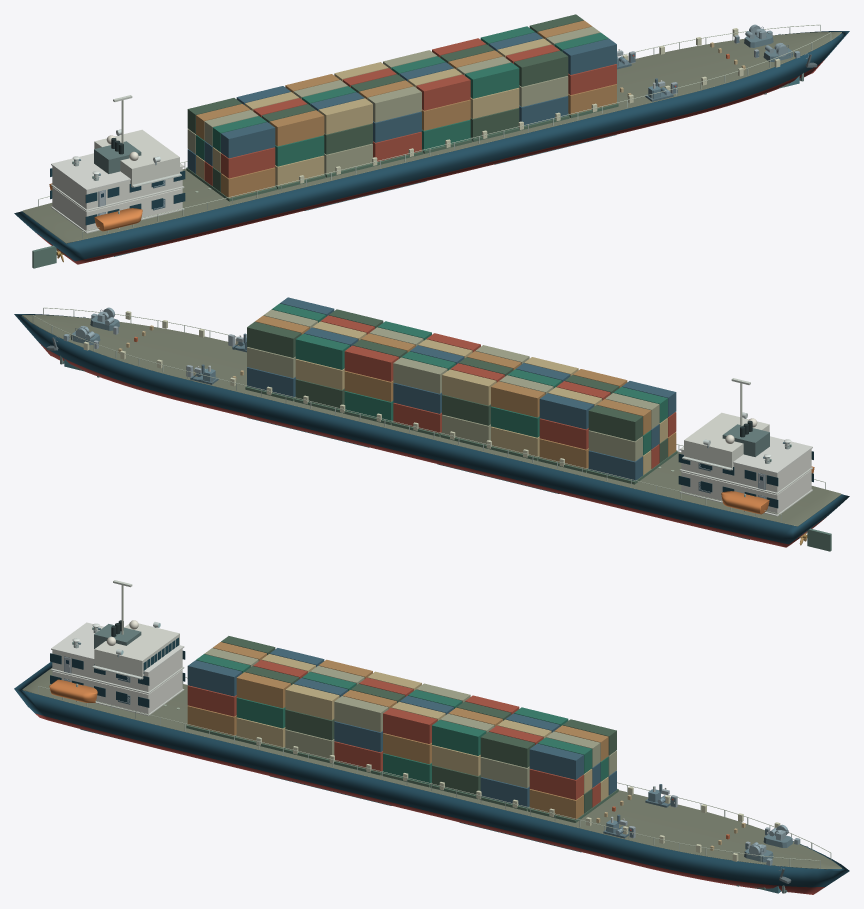
The model's file is sendo-liner.lod1.glb.
3 views of the same model, one above another, from view 1: azimuth 30°, elevation 25°; view 2: azimuth 150°, elevation 25°; view 3: azimuth 330°, elevation 25° (orthographic).
Visible parts, largest first — view 1: sendo-liner.structure.hull.outer-hull-shell.1, sendo-liner.structure.decks.main-strength-deck.1, sendo-liner.structure.hull.antifouling-underwater-shell.1, sendo-liner.navigation.bridge.wheelhouse.1, sendo-liner.accommodation.superstructure.deck-1-enclosure.1, sendo-liner.accommodation.superstructure.deck-2-enclosure.1, sendo-liner.cargo.container-stacks.bay-3-row-5-tier-3.1, sendo-liner.cargo.container-stacks.bay-9-row-5-tier-3.1, sendo-liner.cargo.container-stacks.bay-4-row-5-tier-3.1, sendo-liner.cargo.container-stacks.bay-8-row-5-tier-3.1, sendo-liner.accommodation.superstructure.superstructure-weat, sendo-liner.cargo.container-stacks.bay-6-row-5-tier-3.1 (+25 smaller); view 2: sendo-liner.structure.hull.outer-hull-shell.1, sendo-liner.structure.decks.main-strength-deck.1, sendo-liner.structure.hull.antifouling-underwater-shell.1, sendo-liner.navigation.bridge.wheelhouse.1, sendo-liner.accommodation.superstructure.deck-1-enclosure.1, sendo-liner.accommodation.superstructure.deck-2-enclosure.1, sendo-liner.cargo.container-stacks.bay-3-row-1-tier-3.1, sendo-liner.cargo.container-stacks.bay-9-row-1-tier-3.1, sendo-liner.cargo.container-stacks.bay-4-row-1-tier-3.1, sendo-liner.cargo.container-stacks.bay-8-row-1-tier-3.1, sendo-liner.accommodation.superstructure.superstructure-weat, sendo-liner.cargo.container-stacks.bay-6-row-1-tier-3.1 (+25 smaller); view 3: sendo-liner.structure.hull.outer-hull-shell.1, sendo-liner.structure.decks.main-strength-deck.1, sendo-liner.structure.hull.antifouling-underwater-shell.1, sendo-liner.navigation.bridge.wheelhouse.1, sendo-liner.accommodation.superstructure.deck-1-enclosure.1, sendo-liner.accommodation.superstructure.deck-2-enclosure.1, sendo-liner.cargo.container-stacks.bay-10-row-5-tier-3.1, sendo-liner.cargo.container-stacks.bay-4-row-5-tier-3.1, sendo-liner.cargo.container-stacks.bay-5-row-5-tier-3.1, sendo-liner.cargo.container-stacks.bay-9-row-5-tier-3.1, sendo-liner.cargo.container-stacks.bay-3-row-5-tier-3.1, sendo-liner.cargo.container-stacks.bay-6-row-5-tier-3.1 (+21 smaller).
Part boxes in pixels (left/top/right/bottom): sendo-liner.structure.hull.outer-hull-shell.1: left=14, top=31, right=849, bottom=261; sendo-liner.structure.decks.main-strength-deck.1: left=22, top=32, right=841, bottom=243; sendo-liner.structure.hull.antifouling-underwater-shell.1: left=37, top=60, right=824, bottom=264; sendo-liner.navigation.bridge.wheelhouse.1: left=94, top=129, right=179, bottom=187; sendo-liner.accommodation.superstructure.deck-1-enclosure.1: left=52, top=187, right=182, bottom=231; sendo-liner.accommodation.superstructure.deck-2-enclosure.1: left=52, top=166, right=182, bottom=209; sendo-liner.cargo.container-stacks.bay-3-row-5-tier-3.1: left=221, top=122, right=275, bottom=158; sendo-liner.cargo.container-stacks.bay-9-row-5-tier-3.1: left=514, top=50, right=568, bottom=86; sendo-liner.cargo.container-stacks.bay-4-row-5-tier-3.1: left=269, top=110, right=324, bottom=146; sendo-liner.cargo.container-stacks.bay-8-row-5-tier-3.1: left=465, top=62, right=519, bottom=98; sendo-liner.accommodation.superstructure.superstructure-weat: left=51, top=153, right=184, bottom=190; sendo-liner.cargo.container-stacks.bay-6-row-5-tier-3.1: left=367, top=86, right=421, bottom=122; sendo-liner.structure.hull.outer-hull-shell.1: left=14, top=314, right=849, bottom=544; sendo-liner.structure.decks.main-strength-deck.1: left=22, top=315, right=841, bottom=526; sendo-liner.structure.hull.antifouling-underwater-shell.1: left=39, top=343, right=826, bottom=547; sendo-liner.navigation.bridge.wheelhouse.1: left=684, top=412, right=769, bottom=470; sendo-liner.accommodation.superstructure.deck-1-enclosure.1: left=681, top=470, right=811, bottom=514; sendo-liner.accommodation.superstructure.deck-2-enclosure.1: left=681, top=449, right=811, bottom=492; sendo-liner.cargo.container-stacks.bay-3-row-1-tier-3.1: left=588, top=405, right=642, bottom=441; sendo-liner.cargo.container-stacks.bay-9-row-1-tier-3.1: left=295, top=333, right=349, bottom=369; sendo-liner.cargo.container-stacks.bay-4-row-1-tier-3.1: left=539, top=393, right=594, bottom=429; sendo-liner.cargo.container-stacks.bay-8-row-1-tier-3.1: left=344, top=345, right=398, bottom=381; sendo-liner.accommodation.superstructure.superstructure-weat: left=679, top=436, right=812, bottom=473; sendo-liner.cargo.container-stacks.bay-6-row-1-tier-3.1: left=442, top=369, right=496, bottom=405; sendo-liner.structure.hull.outer-hull-shell.1: left=14, top=662, right=849, bottom=887; sendo-liner.structure.decks.main-strength-deck.1: left=22, top=668, right=841, bottom=869; sendo-liner.structure.hull.antifouling-underwater-shell.1: left=35, top=713, right=824, bottom=894; sendo-liner.navigation.bridge.wheelhouse.1: left=94, top=623, right=179, bottom=679; sendo-liner.accommodation.superstructure.deck-1-enclosure.1: left=52, top=669, right=182, bottom=713; sendo-liner.accommodation.superstructure.deck-2-enclosure.1: left=52, top=649, right=182, bottom=691; sendo-liner.cargo.container-stacks.bay-10-row-5-tier-3.1: left=529, top=743, right=583, bottom=779; sendo-liner.cargo.container-stacks.bay-4-row-5-tier-3.1: left=236, top=672, right=290, bottom=708; sendo-liner.cargo.container-stacks.bay-5-row-5-tier-3.1: left=285, top=684, right=339, bottom=720; sendo-liner.cargo.container-stacks.bay-9-row-5-tier-3.1: left=480, top=731, right=534, bottom=767; sendo-liner.cargo.container-stacks.bay-3-row-5-tier-3.1: left=187, top=660, right=241, bottom=696; sendo-liner.cargo.container-stacks.bay-6-row-5-tier-3.1: left=334, top=696, right=388, bottom=732.
Size of the model in its own units: 110 by 19.16 by 12.73.
